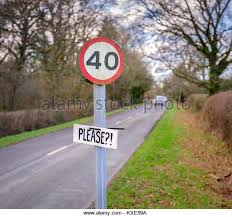Speed_limit_40km: (79, 37, 124, 85)
